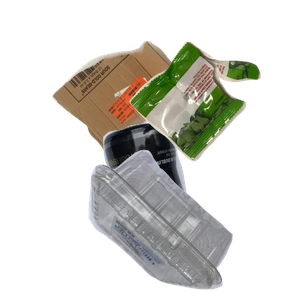cardboard: (50, 38, 233, 184)
glass: (37, 120, 231, 300)
plastic: (86, 147, 300, 300)
trash: (127, 39, 300, 193)
